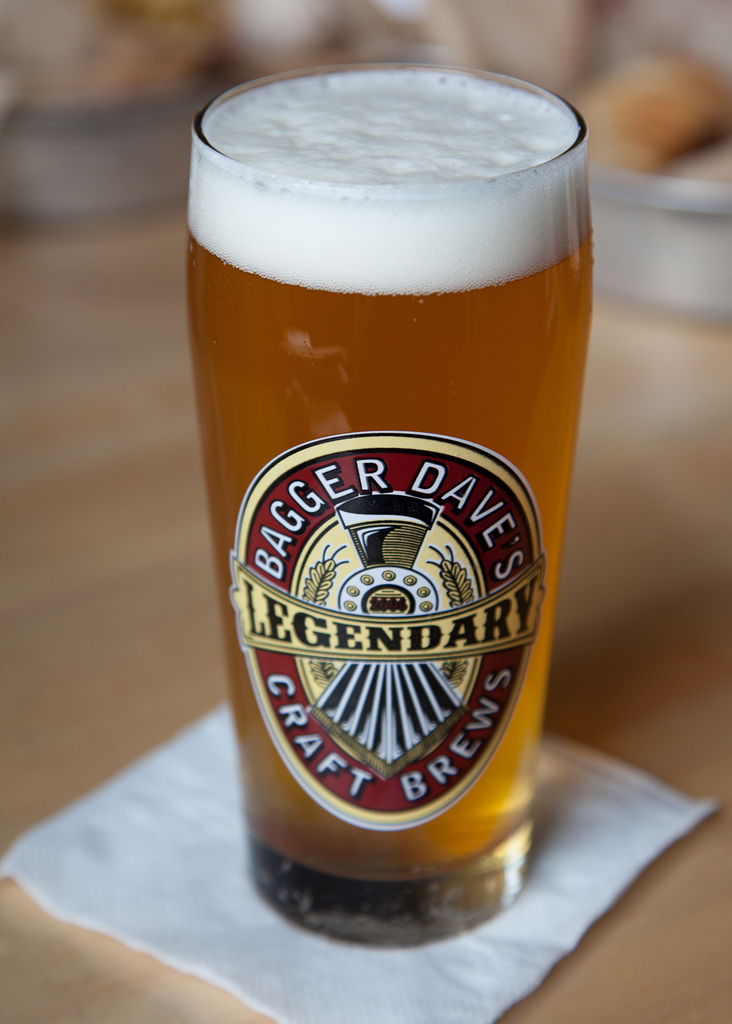Beer: (182, 53, 583, 1003)
